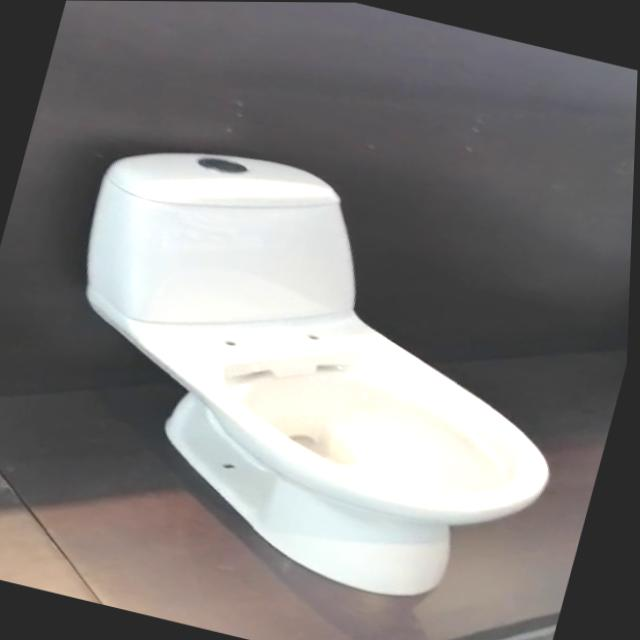toilet: (13, 121, 617, 625)
